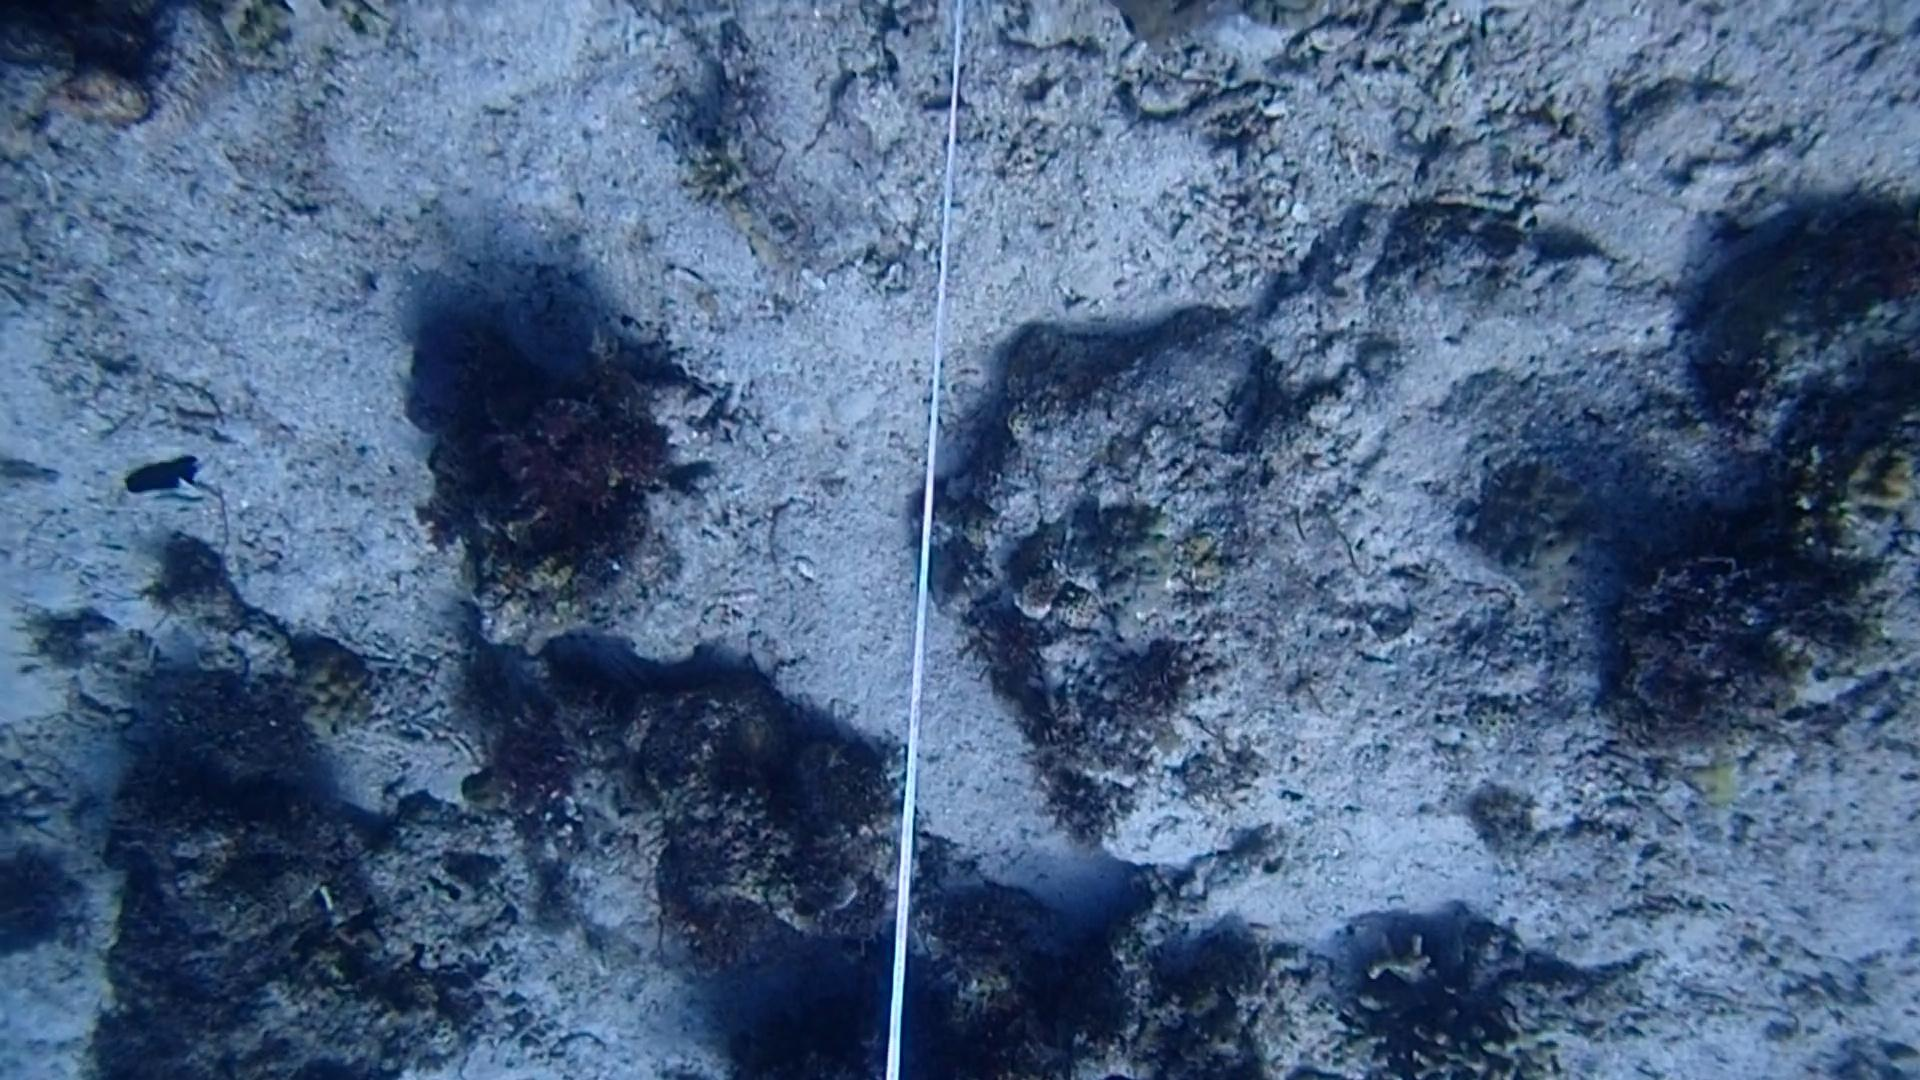Dark Fish: (117, 443, 215, 512)
